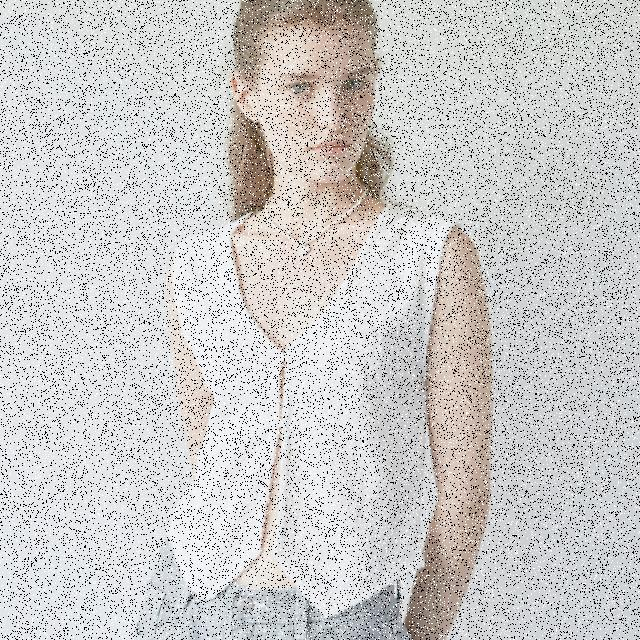dress: (172, 204, 460, 619)
